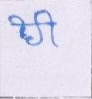i_matra: (38, 10, 59, 46)
